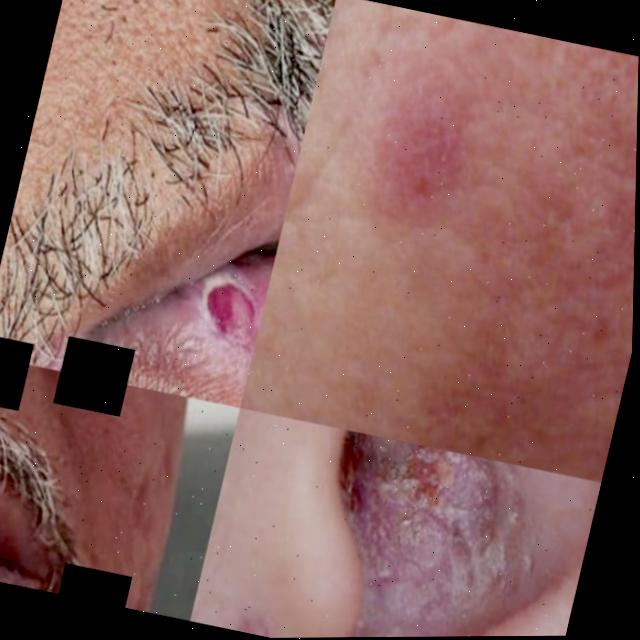lupus-detected: (188, 404, 602, 639), (288, 0, 615, 295), (116, 222, 277, 398), (57, 373, 240, 468), (233, 69, 315, 221), (0, 458, 47, 586)
